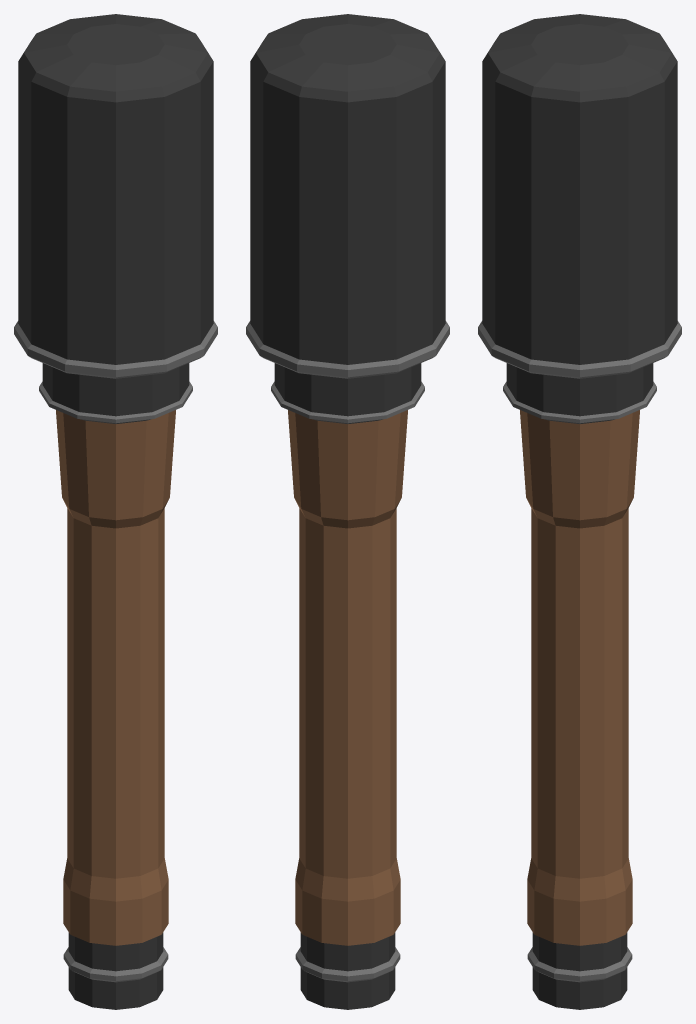
File: German Grenade.fbx
3 renders of one model, left to right at view 1: azimuth 30°, elevation 25°; view 2: azimuth 150°, elevation 25°; view 3: azimuth 270°, elevation 25°, orthographic.
Visible parts, largest first — view 1: German Grenade; view 2: German Grenade; view 3: German Grenade.
Part boxes in pixels (<box>): German Grenade: <box>14,14,217,1009</box>; German Grenade: <box>246,14,449,1009</box>; German Grenade: <box>478,14,681,1009</box>.
Size of the model in its own units: 33.41 by 171 by 33.41.
